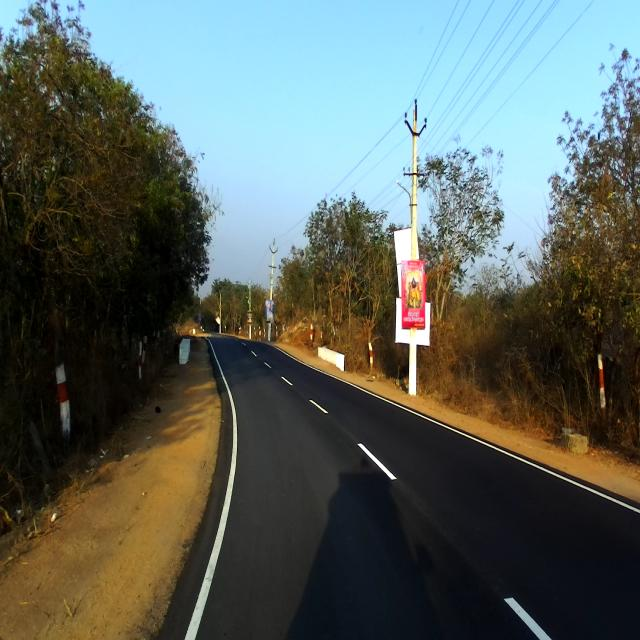electric pole ahead at: (397, 88, 437, 399)
